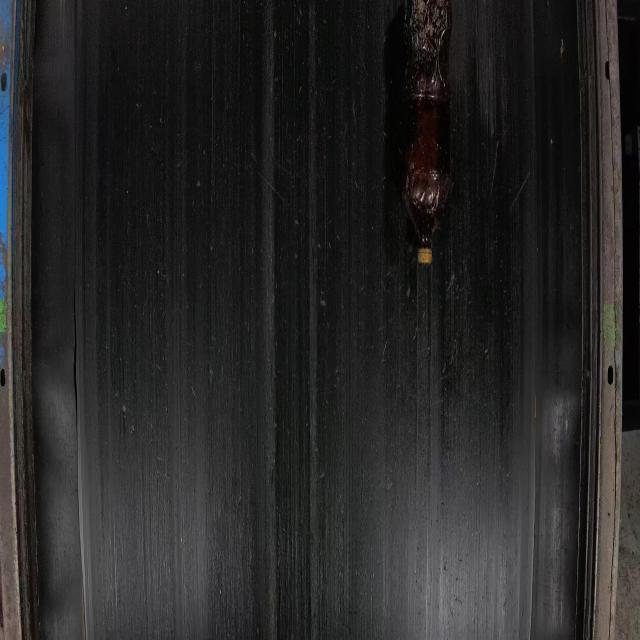bottles: (399, 0, 454, 264)
cardboard: (9, 0, 624, 638)
